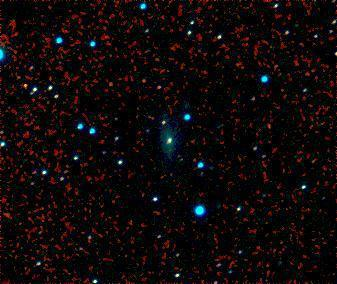star: (11, 71, 41, 101)
